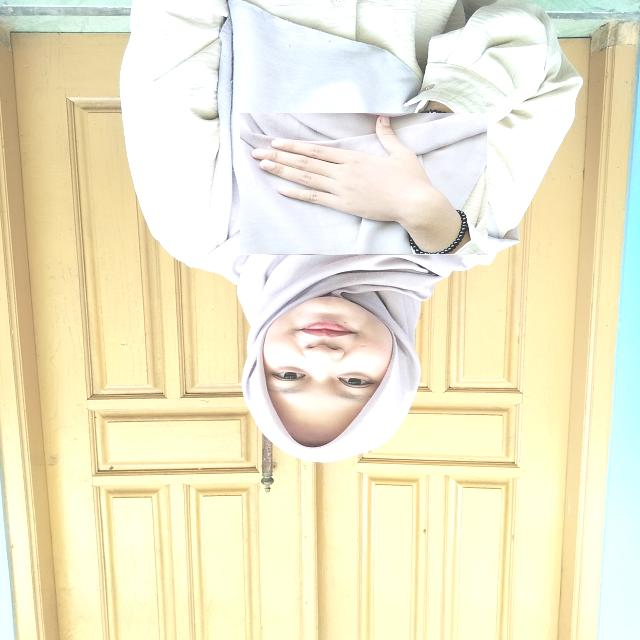tolong: (240, 113, 488, 255)
